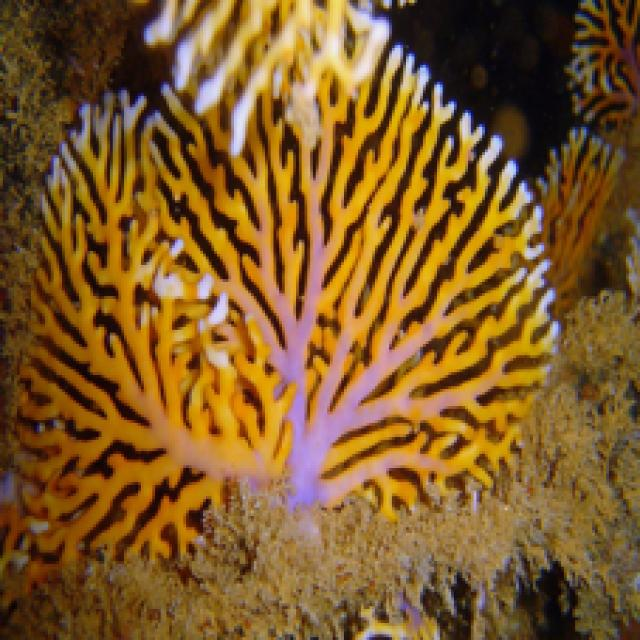Healthy: (4, 1, 551, 568)
